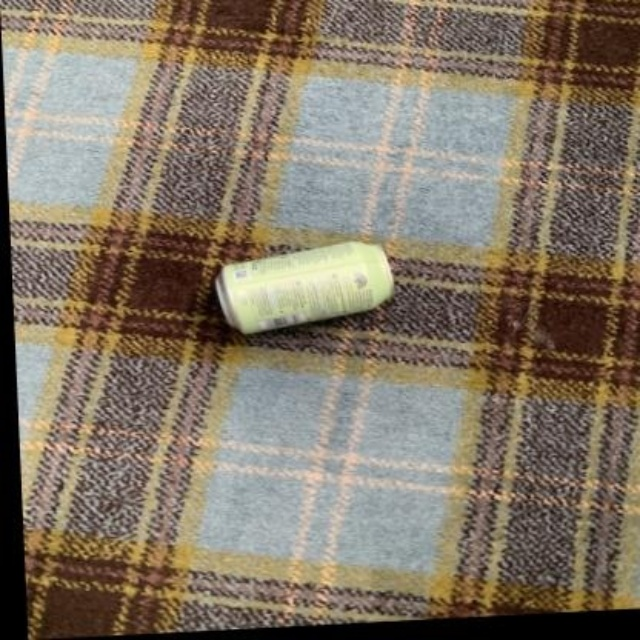trash: (215, 242, 392, 332)
